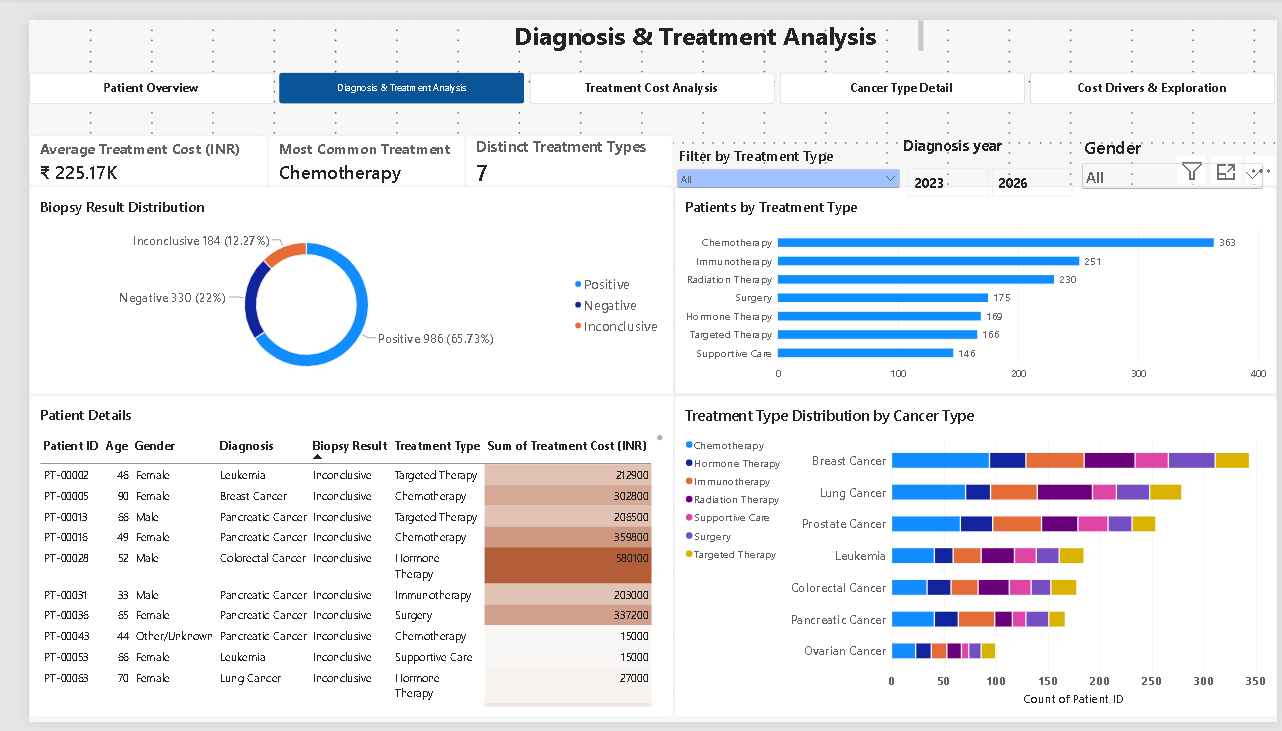

This screenshot's page, from the dashboard's own definition file:
{"tool":"powerbi","page":{"name":"Diagnosis & Treatment Analysis","canvas":[1920,1080],"ordinal":1},"visuals":[{"type":"donutChart","title":"Biopsy Result Distribution ","fields":{"Category":["Patient Data.Biopsy Result"],"Y":["Patient Data.Total Patients"]},"box":[0,256,992,320],"z":0},{"type":"tableEx","title":"Patient Details","fields":{"Values":["Patient Data.Patient ID","Patient Data.Age","Patient Data.Gender","Patient Data.Diagnosis","Patient Data.Biopsy Result","Patient Data.Treatment Type","Sum(Patient Data.Treatment Cost (INR))"]},"box":[0,576,992,496],"z":1000},{"type":"clusteredBarChart","title":"Patients by Treatment Type","fields":{"Category":["Patient Data.Treatment Type"],"Y":["Patient Data.Total Patients"]},"box":[992,256,928,320],"z":2000},{"type":"barChart","title":"Treatment Type Distribution by Cancer Type","fields":{"Category":["Patient Data.Diagnosis"],"Series":["Patient Data.Treatment Type"],"Y":["CountNonNull(Patient Data.Patient ID)"]},"box":[992,576,928,496],"z":3000},{"type":"slicer","fields":{"Values":["Patient Data.Treatment Type"]},"box":[992,144,352,112],"z":4000},{"type":"slicer","fields":{"Values":["Patient Data.Gender"]},"box":[1648,144,272,96],"z":5000},{"type":"slicer","fields":{"Values":["Patient Data.Diagnosis Year"]},"box":[1360,144,272,96],"z":6000},{"type":"textbox","box":[96,96,672,80],"z":7000},{"type":"textbox","box":[400,0,896,48],"z":8000},{"type":"cardVisual","fields":{"Data":["Patient Data.Total Treatment Types"]},"box":[672,176,320,80],"z":9000},{"type":"cardVisual","fields":{"Data":["Patient Data.Average Treatment Cost"]},"box":[0,176,368,80],"z":10000},{"type":"cardVisual","fields":{"Data":["Patient Data.Most Common Treatment"]},"box":[368,176,304,80],"z":11000},{"type":"pageNavigator","box":[0,80,1920,48],"z":11001}]}

Visuals, with their boxes in screenshot pixels (x1, y1, x2, y2), scaled from the page's 1920x1080 canvas onto the 1282x731 screenshot:
"Biopsy Result Distribution " donutChart: BBox(0, 173, 662, 390)
"Patient Details" tableEx: BBox(0, 390, 662, 726)
"Patients by Treatment Type" clusteredBarChart: BBox(662, 173, 1281, 390)
"Treatment Type Distribution by Cancer Type" barChart: BBox(662, 390, 1281, 726)
slicer - Patient Data.Treatment Type: BBox(662, 97, 897, 173)
slicer - Patient Data.Gender: BBox(1100, 97, 1281, 162)
slicer - Patient Data.Diagnosis Year: BBox(908, 97, 1090, 162)
textbox: BBox(64, 65, 513, 119)
textbox: BBox(267, 0, 865, 32)
cardVisual - Patient Data.Total Treatment Types: BBox(449, 119, 662, 173)
cardVisual - Patient Data.Average Treatment Cost: BBox(0, 119, 246, 173)
cardVisual - Patient Data.Most Common Treatment: BBox(246, 119, 449, 173)
pageNavigator: BBox(0, 54, 1281, 87)
